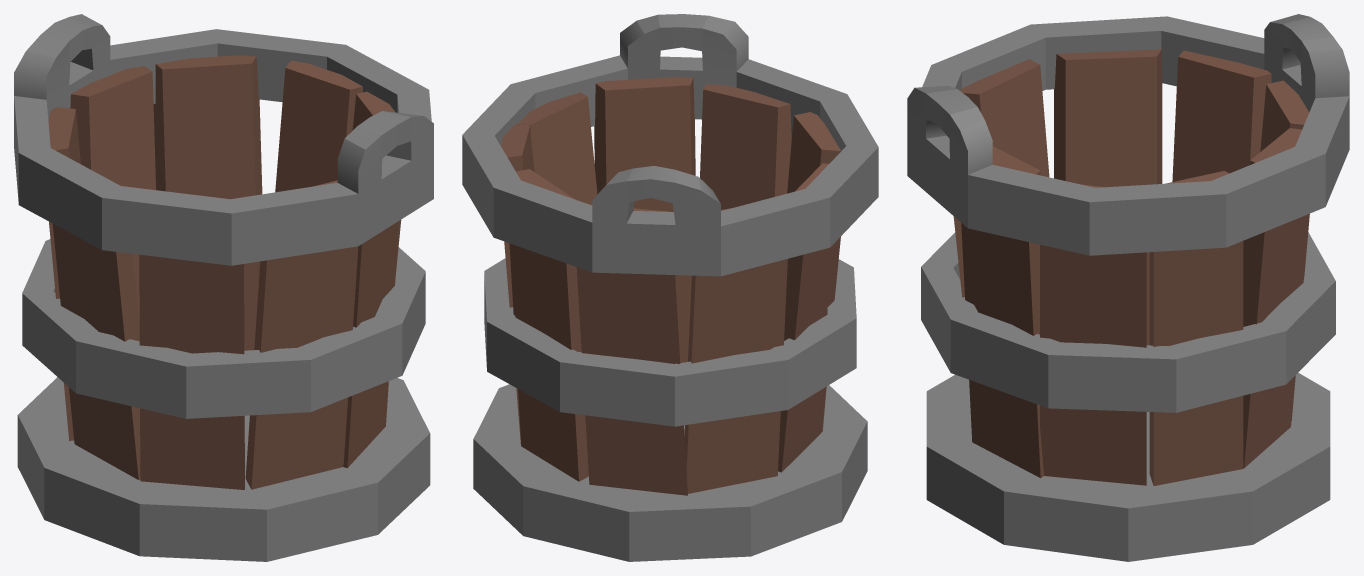
Rendered from basket.fbx.
3 views of the same model, side by side, from view 1: azimuth 30°, elevation 25°; view 2: azimuth 150°, elevation 25°; view 3: azimuth 270°, elevation 25° (orthographic). The views are drawn at different scales.
Visible parts, largest first — view 1: pCylinder1, pCylinder3, pCylinder2, pCylinder12, pCylinder8, pCylinder4, pCylinder11, pCylinder9, pCylinder7, pCylinder5, pCylinder10, pCylinder6; view 2: pCylinder1, pCylinder3, pCylinder2, pCylinder9, pCylinder10, pCylinder5, pCylinder8, pCylinder4, pCylinder11, pCylinder6, pCylinder12, pCylinder7; view 3: pCylinder1, pCylinder3, pCylinder2, pCylinder6, pCylinder7, pCylinder11, pCylinder5, pCylinder10, pCylinder8, pCylinder12, pCylinder9.
Part boxes in pixels (x1,y1,x2,y2): pCylinder1: (14, 14, 433, 265); pCylinder3: (17, 377, 430, 561); pCylinder2: (22, 239, 425, 418); pCylinder12: (139, 254, 244, 489); pCylinder8: (153, 55, 262, 350); pCylinder4: (245, 180, 358, 489); pCylinder11: (52, 224, 140, 479); pCylinder9: (70, 66, 155, 321); pCylinder7: (275, 60, 362, 192); pCylinder5: (343, 221, 398, 468); pCylinder10: (48, 107, 80, 440); pCylinder6: (352, 91, 401, 278); pCylinder1: (462, 14, 878, 276); pCylinder3: (473, 384, 867, 561); pCylinder2: (484, 258, 856, 426); pCylinder9: (576, 204, 687, 495); pCylinder10: (684, 208, 787, 493); pCylinder5: (594, 77, 695, 362); pCylinder8: (509, 169, 588, 481); pCylinder4: (700, 84, 791, 209); pCylinder11: (778, 163, 840, 472); pCylinder6: (518, 92, 597, 204); pCylinder12: (787, 112, 841, 431); pCylinder7: (501, 124, 533, 445); pCylinder1: (907, 14, 1349, 255); pCylinder3: (926, 372, 1330, 561); pCylinder2: (921, 232, 1335, 412); pCylinder6: (1040, 184, 1146, 485); pCylinder7: (1149, 171, 1243, 485); pCylinder11: (1054, 49, 1162, 345); pCylinder5: (961, 146, 1043, 478); pCylinder10: (1172, 50, 1271, 181); pCylinder8: (1243, 128, 1309, 468); pCylinder12: (960, 59, 1049, 177); pCylinder9: (1260, 80, 1309, 420).
Bounding box in the file's own units: 14.03 × 14.48 × 14.11.
